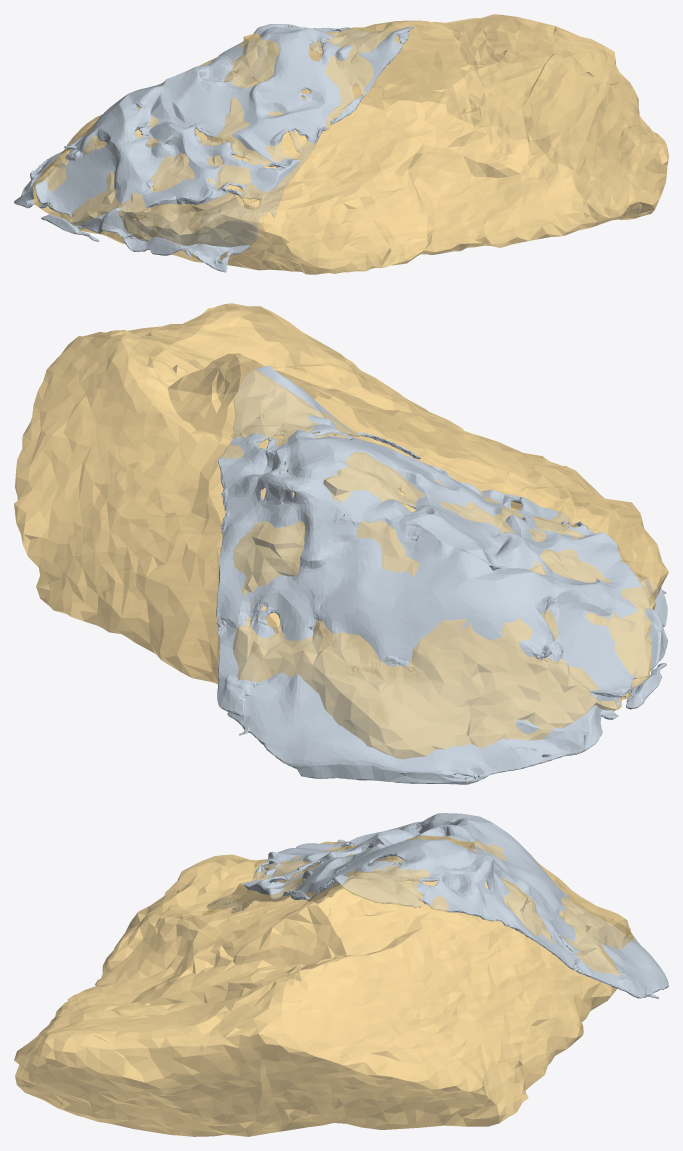
3 views of the same model, one above another, from view 1: azimuth 30°, elevation 25°; view 2: azimuth 150°, elevation 25°; view 3: azimuth 270°, elevation 25° (orthographic). The views are drawn at different scales.
Parts seen in each view (by area): view 1: truth, imagination; view 2: truth, imagination; view 3: truth, imagination.
Part boxes in pixels (left/top/right/bottom): truth: left=32, top=14, right=668, bottom=274; imagination: left=14, top=24, right=414, bottom=272; truth: left=14, top=303, right=668, bottom=759; imagination: left=216, top=365, right=667, bottom=784; truth: left=14, top=835, right=633, bottom=1136; imagination: left=203, top=813, right=668, bottom=998.
Size of the model in its own units: 1.23 by 0.4015 by 1.14.
